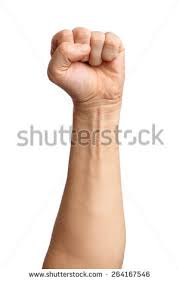fist: (51, 30, 132, 111)
